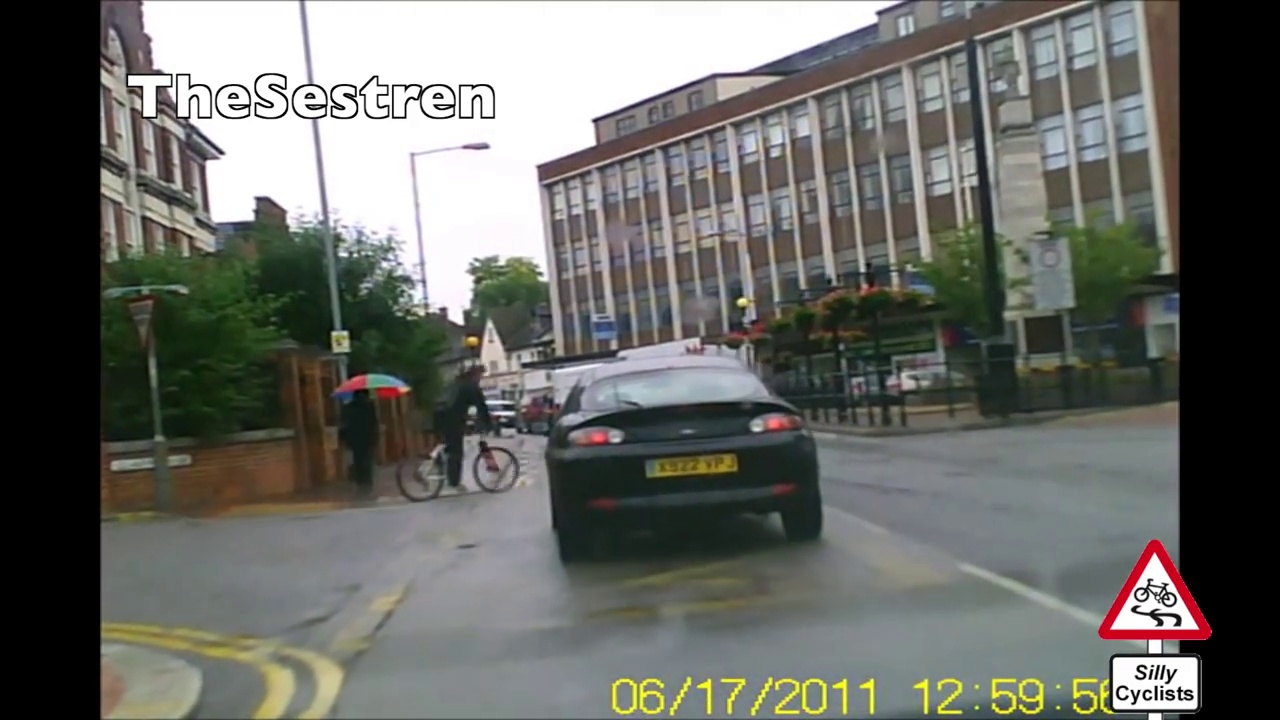cyclist_side: (397, 357, 526, 498)
